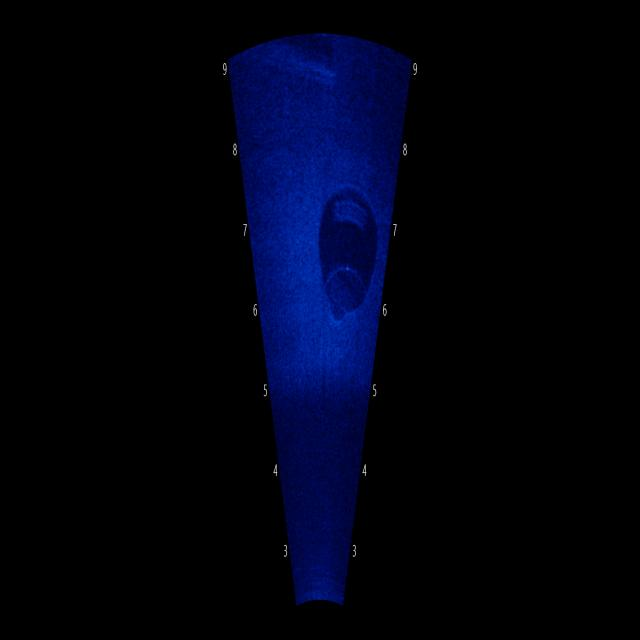circle: (314, 163, 380, 314)
